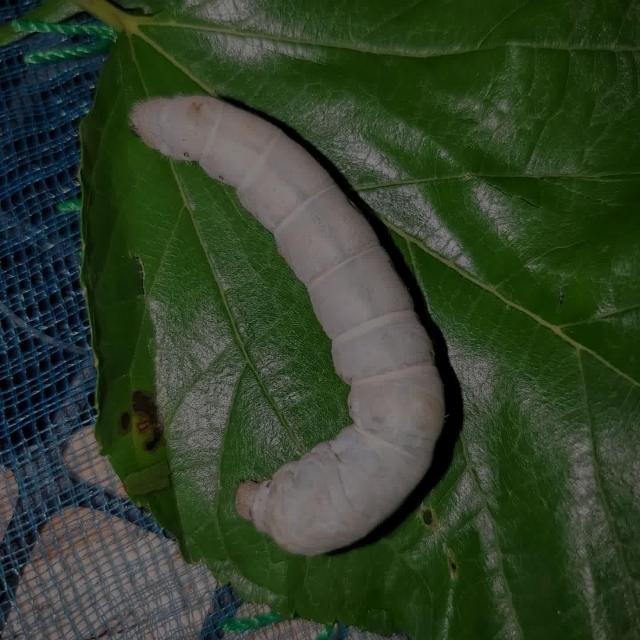Healthy: (107, 62, 466, 584)
